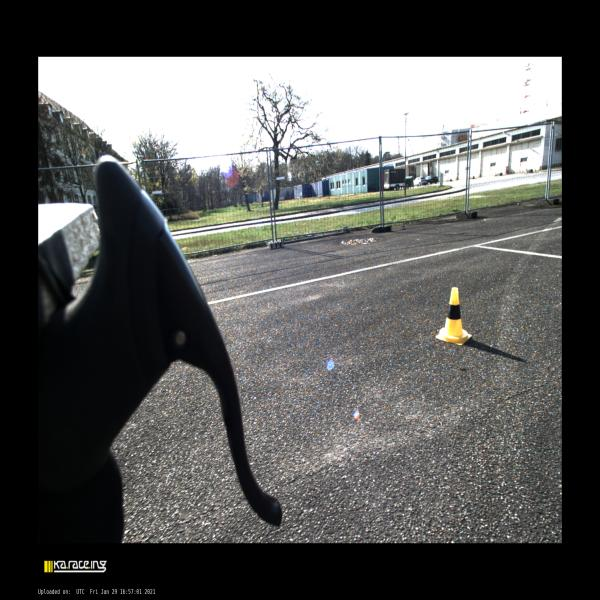yellow_cone: (436, 287, 472, 345)
